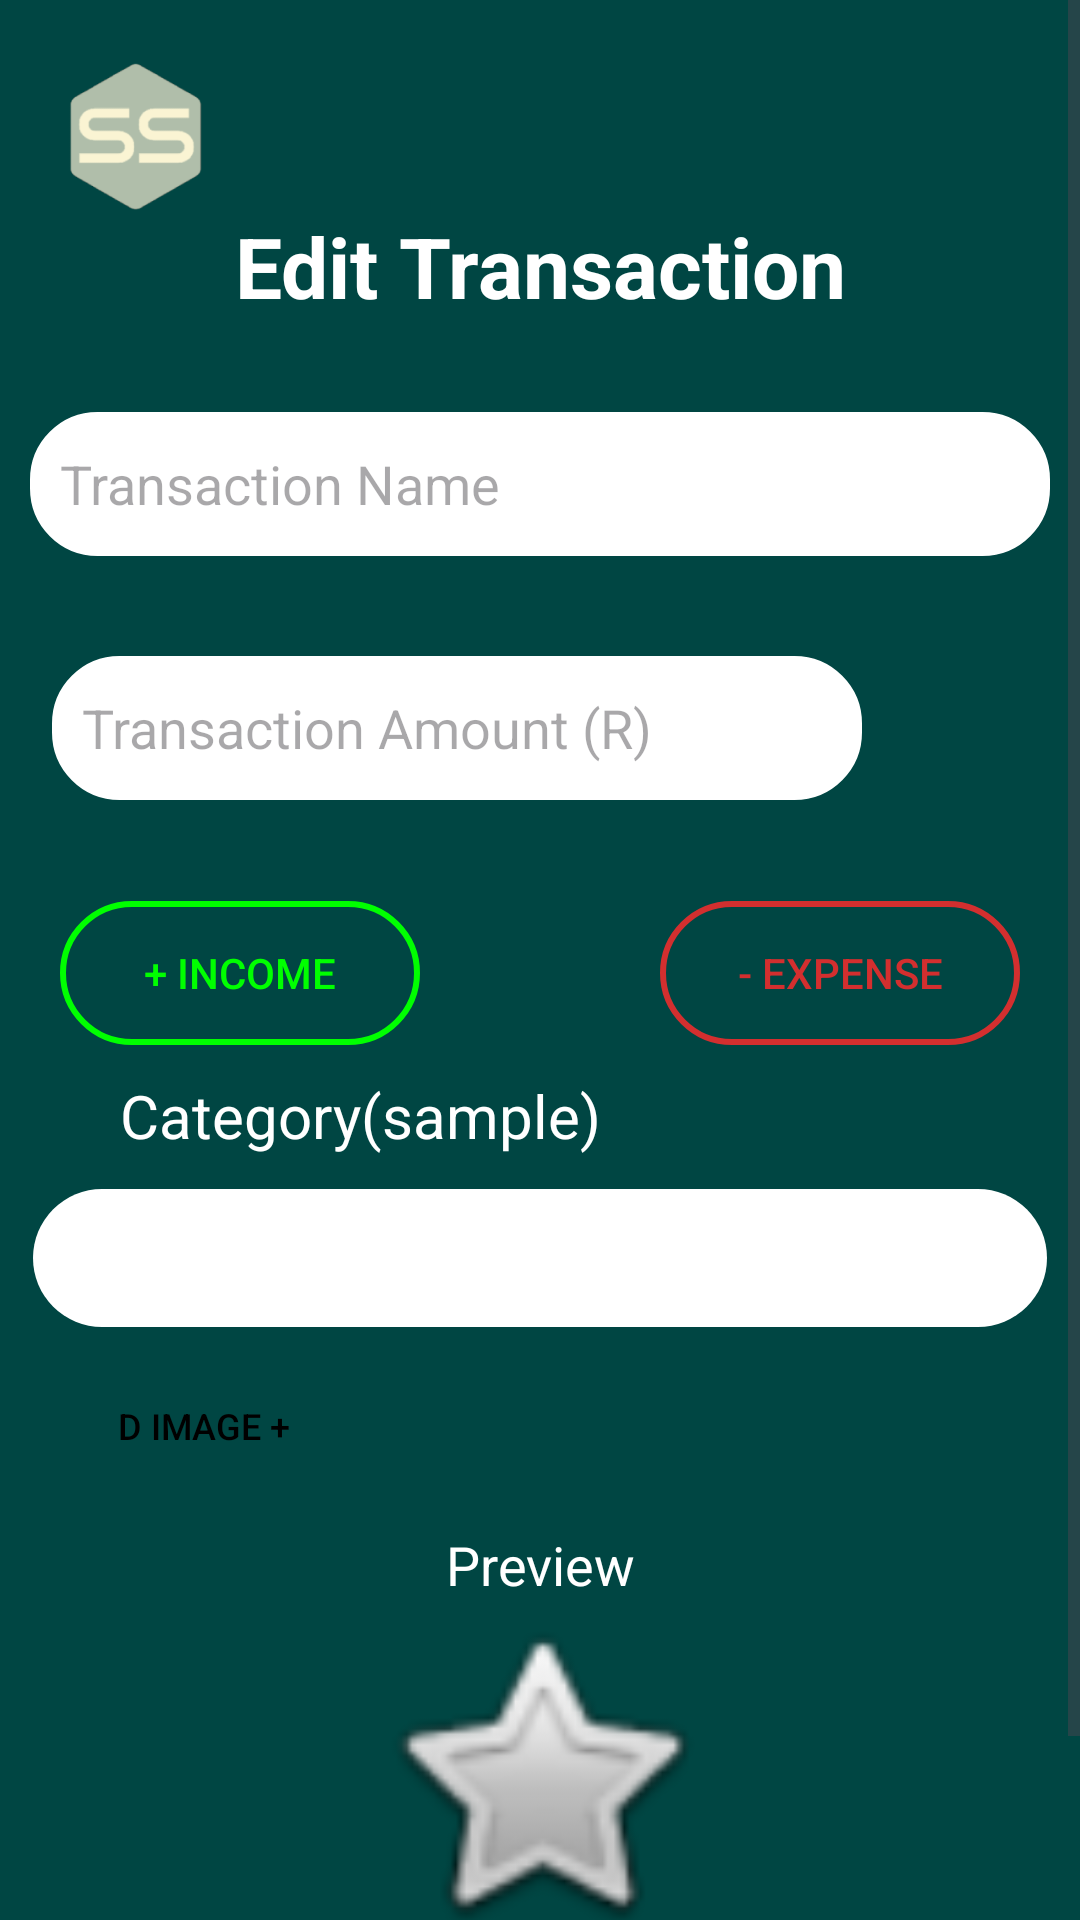

Icons on this 1080px x 1920px Android screen, each with its box as (x1, y1, x2, y2):
star off: (403, 1641, 683, 1909)
